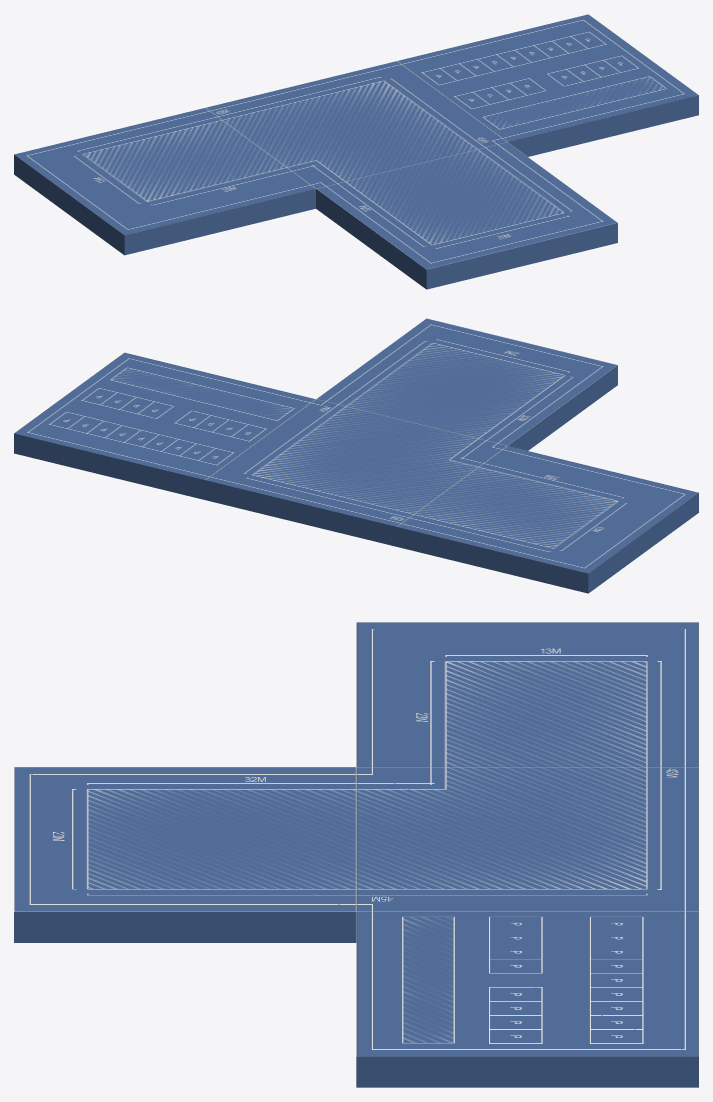
Rendered from loading_block_1.fbx.
The picture shows the model from 3 angles, top to bottom: view 1: azimuth 30°, elevation 25°; view 2: azimuth 150°, elevation 25°; view 3: azimuth 270°, elevation 25°; orthographic projection. The views are drawn at different scales.
Parts seen in each view (by area): view 1: block_1; view 2: block_1; view 3: block_1.
Boxes of the visible parts, bbox=[...] form: block_1: bbox=[14, 14, 698, 289]; block_1: bbox=[14, 318, 698, 593]; block_1: bbox=[14, 622, 698, 1087].
Bounding box in the file's own units: 300 × 10 × 200.
